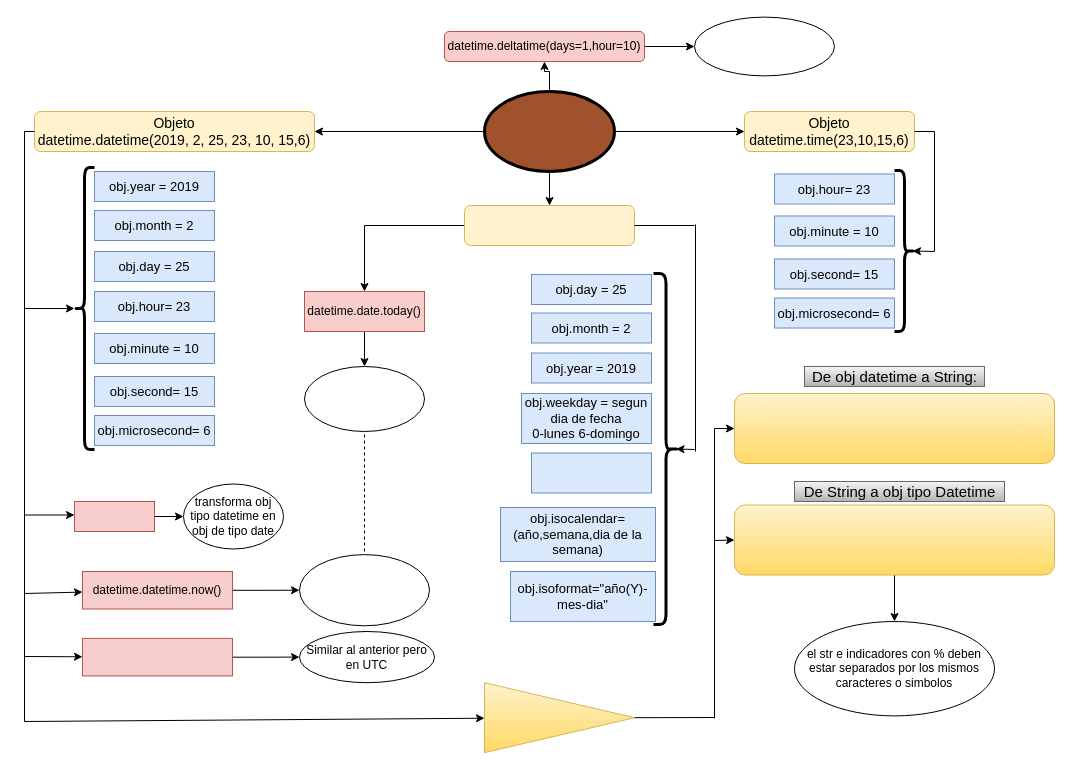
The diagram is 1072 pixels wide and 771 high, and some of its shapes have lost their labels. The box of each missing label's shape, as (x1, y1, x2, y2) in pixels:
Da la fecha actual con año-mes-dia: (304, 366, 424, 432)
Da la fecha actual con año-mes-dia-hora-minuto-segundo: (298, 554, 430, 626)
datetime.datetime.strptime( "2020/01-10" ,"%Y/%m-%d"): (734, 504, 1054, 575)
datetime.datetime.utcnow(): (82, 637, 232, 676)
import datetime: (482, 90, 616, 172)
obj.date(): (74, 500, 154, 532)
obj.isoweekday = 1-lunes 7-domingo: (530, 452, 652, 493)
objdatetime.strftime("%Y-%m-%d %H:%M:%S"): (734, 392, 1054, 464)
Objeto datetime.date(2019, 2, 25): (464, 204, 634, 246)
Para realizar restas o sumas de dias,horas,etc: (694, 16, 834, 76)
Pasar DATE a STRING: (484, 682, 634, 753)
